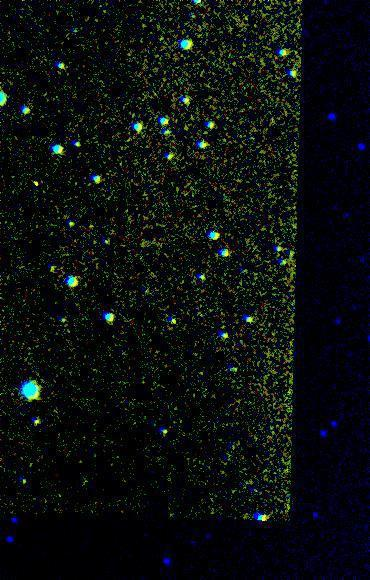star: (24, 169, 54, 199)
